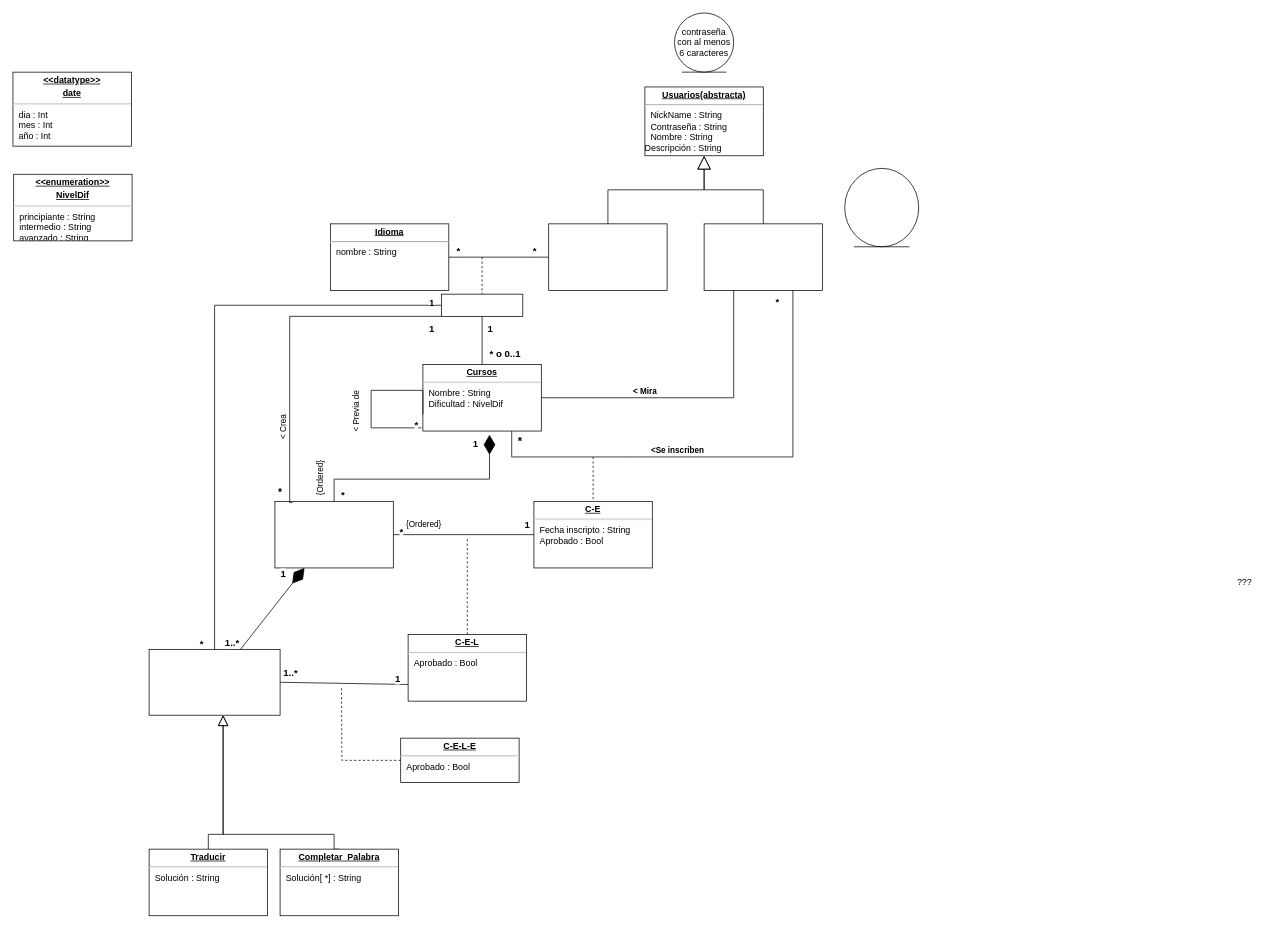
This 1272x929 diagram has some shape labels left out. The shapes that lost their labels are listed below. From the top down, each one's box as (x1, y1, x2, y2) in pixels, then its label:
(844, 168, 919, 247): El estudiante aprueba si el progreso de cada leccion finalizo
(548, 223, 667, 290): Profesores Instituto : String
(703, 223, 823, 290): Estudiantes Pais : String Fecha de nacimiento : Date
(441, 293, 523, 316): Prof sabeId
(274, 501, 393, 568): Lecciones Tema : Sring Objetivo : String
(148, 649, 280, 715): Ejercicios (abstracta) Frase
